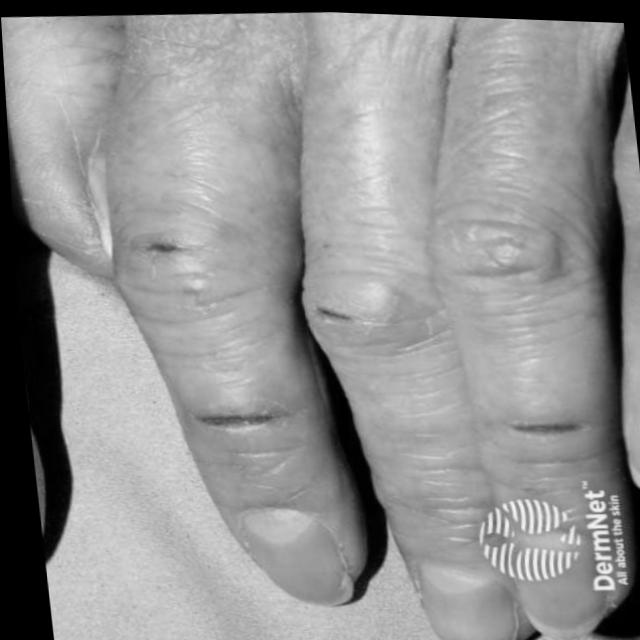Eczema: (500, 410, 599, 464), (304, 294, 385, 345), (201, 405, 275, 442), (140, 224, 197, 254)
